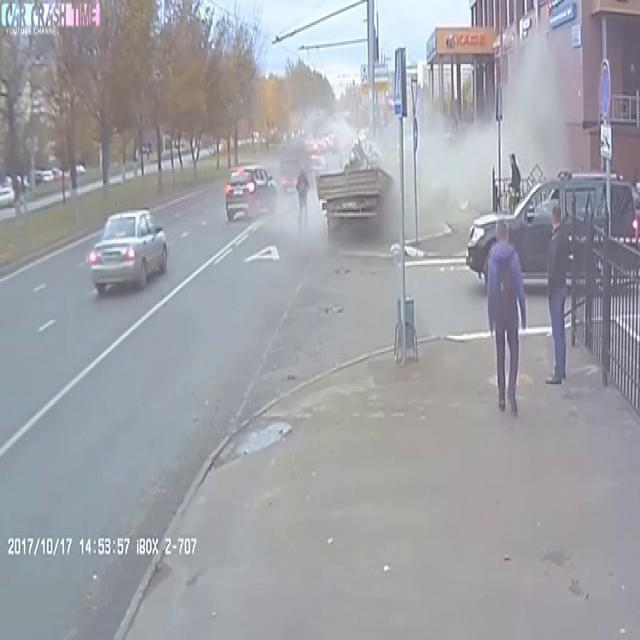accident: (305, 120, 429, 273)
